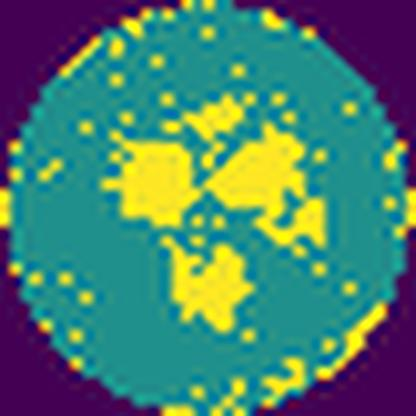Loc: (205, 119, 332, 249), (100, 126, 201, 232), (157, 232, 258, 334), (177, 90, 250, 146)
